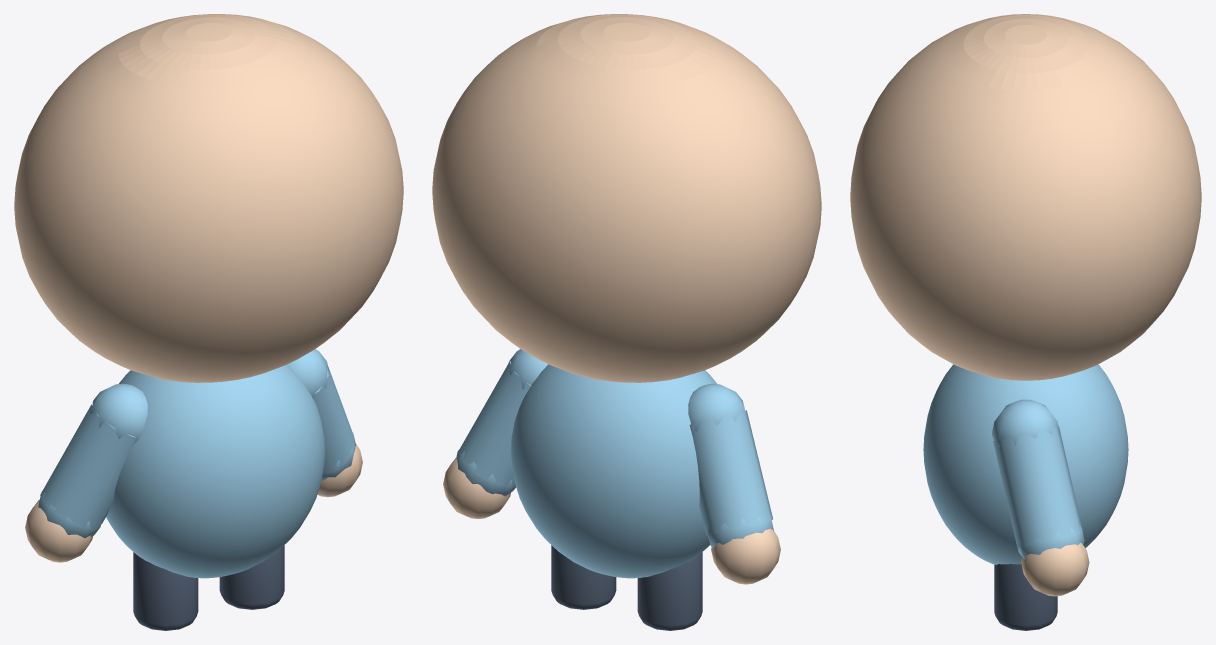
File: Body_Normal.fbx
3 renders of one model, left to right at view 1: azimuth 30°, elevation 25°; view 2: azimuth 150°, elevation 25°; view 3: azimuth 270°, elevation 25°, orthographic. The views are drawn at different scales.
Visible parts, largest first — view 1: Head, Body, Arm.001, Leg.001, Leg, Arm, Arm_Cap.002, Hand.001, Arm_Cap, Hand, Arm_Cap.003; view 2: Head, Body, Arm.001, Arm, Leg.001, Hand.001, Leg, Hand, Arm_Cap.002, Arm_Cap.003, Arm_Cap, Arm_Cap.001; view 3: Head, Body, Arm, Leg, Hand, Arm_Cap, Arm_Cap.001.
Boxes of the visible parts, x1,y1,x2,y2 form: Head: (14,14,403,382); Body: (106,364,325,578); Arm.001: (40,403,136,529); Leg.001: (133,552,198,630); Leg: (219,545,284,609); Arm: (314,366,355,473); Arm_Cap.002: (90,383,147,442); Hand.001: (25,500,92,562); Arm_Cap: (288,349,328,399); Hand: (317,443,362,497); Arm_Cap.003: (38,492,101,538); Head: (432,14,821,382); Body: (510,364,716,578); Arm.001: (689,410,772,535); Arm: (458,361,531,486); Leg.001: (637,552,702,630); Hand.001: (711,529,780,584); Leg: (551,545,616,609); Hand: (443,457,510,518); Arm_Cap.002: (688,383,747,431); Arm_Cap.003: (707,515,773,547); Arm_Cap: (508,349,547,389); Arm_Cap.001: (456,449,515,496); Head: (850,14,1201,380); Body: (923,364,1128,564); Arm: (993,426,1083,547); Leg: (994,564,1057,630); Hand: (1021,543,1089,596); Arm_Cap: (992,399,1059,447); Arm_Cap.001: (1018,526,1084,559).
Bounding box in the file's own units: 80 × 128 × 72.
